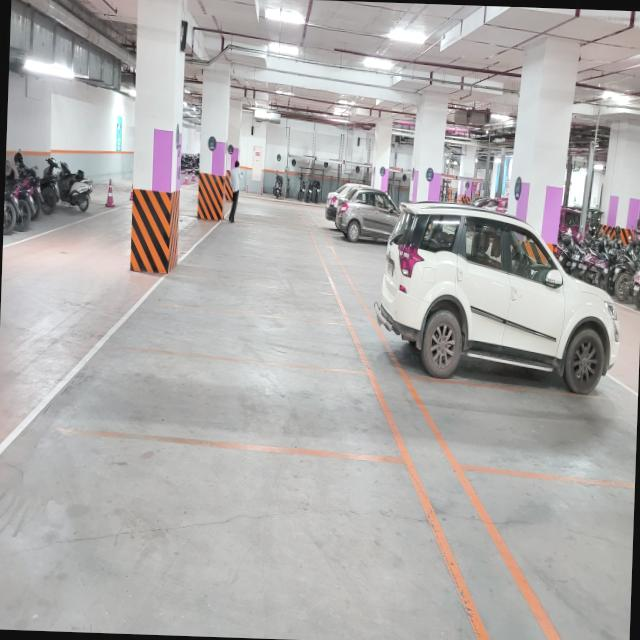car: (422, 298, 564, 386), (478, 402, 608, 488)
free: (60, 468, 376, 640), (178, 353, 336, 450), (542, 481, 631, 632), (186, 300, 310, 358)
